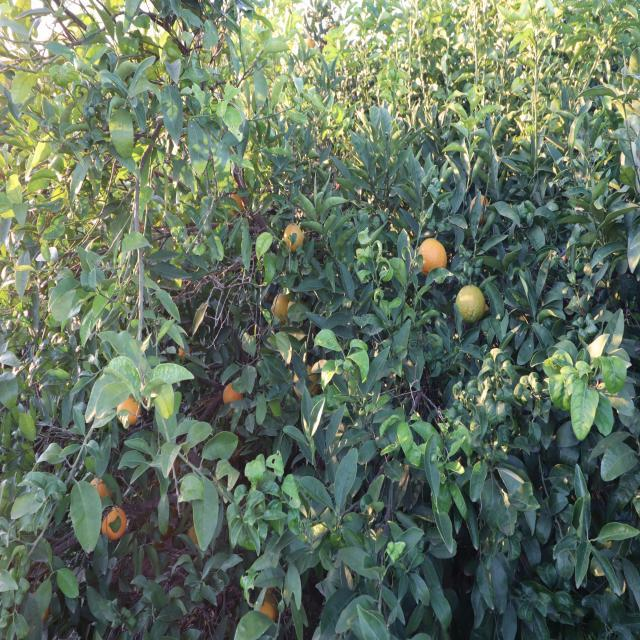Jeruk Belum Matang: (456, 286, 488, 324)
Jeruk Sudah Matang: (99, 506, 131, 540), (418, 238, 448, 272), (116, 396, 140, 422), (283, 225, 307, 250), (90, 476, 114, 500), (261, 594, 279, 622), (470, 194, 489, 220), (224, 192, 246, 212), (273, 294, 292, 317), (222, 386, 240, 404)
